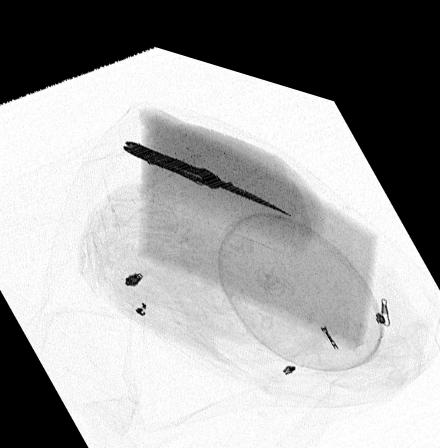Knife: (121, 132, 292, 199)
